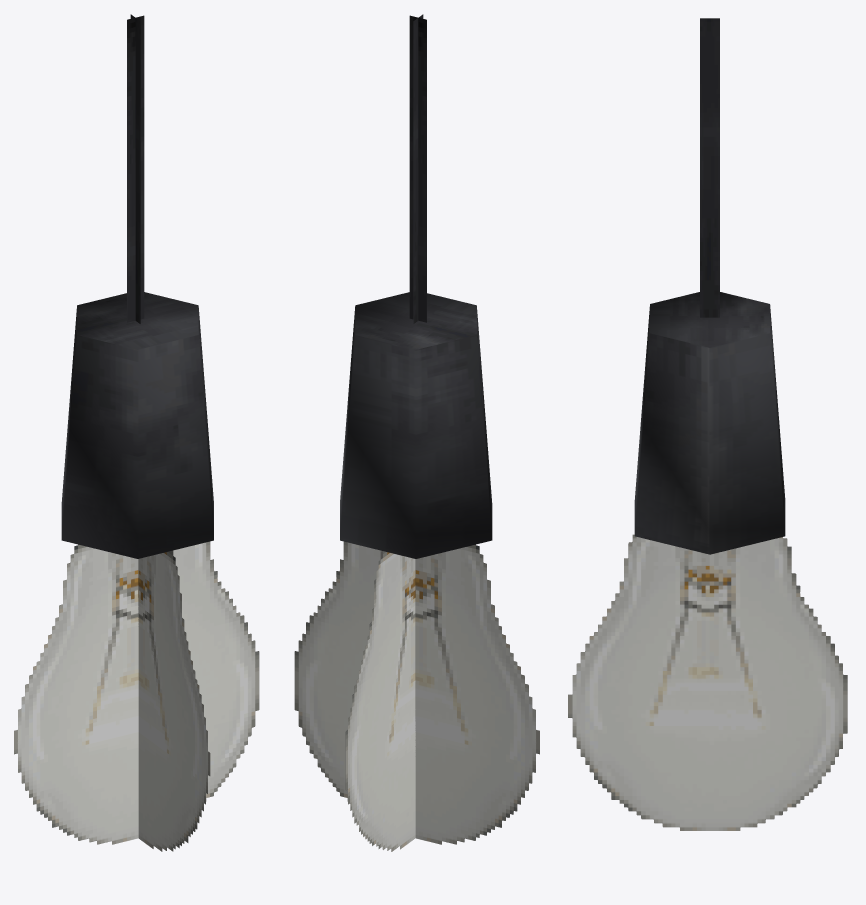
Rendered from lamp.fbx.
3 views of the same model, side by side, from view 1: azimuth 30°, elevation 25°; view 2: azimuth 150°, elevation 25°; view 3: azimuth 270°, elevation 25° (orthographic).
Parts seen in each view (by area): view 1: lampochka1.001; view 2: lampochka1.001; view 3: lampochka1.001.
Part boxes in pixels (left/top/right/bottom): lampochka1.001: left=14, top=14, right=259, bottom=851; lampochka1.001: left=294, top=14, right=539, bottom=851; lampochka1.001: left=568, top=18, right=847, bottom=830.
Size of the model in its own units: 18.65 by 58.81 by 18.65.
1 material, 1 textured.
